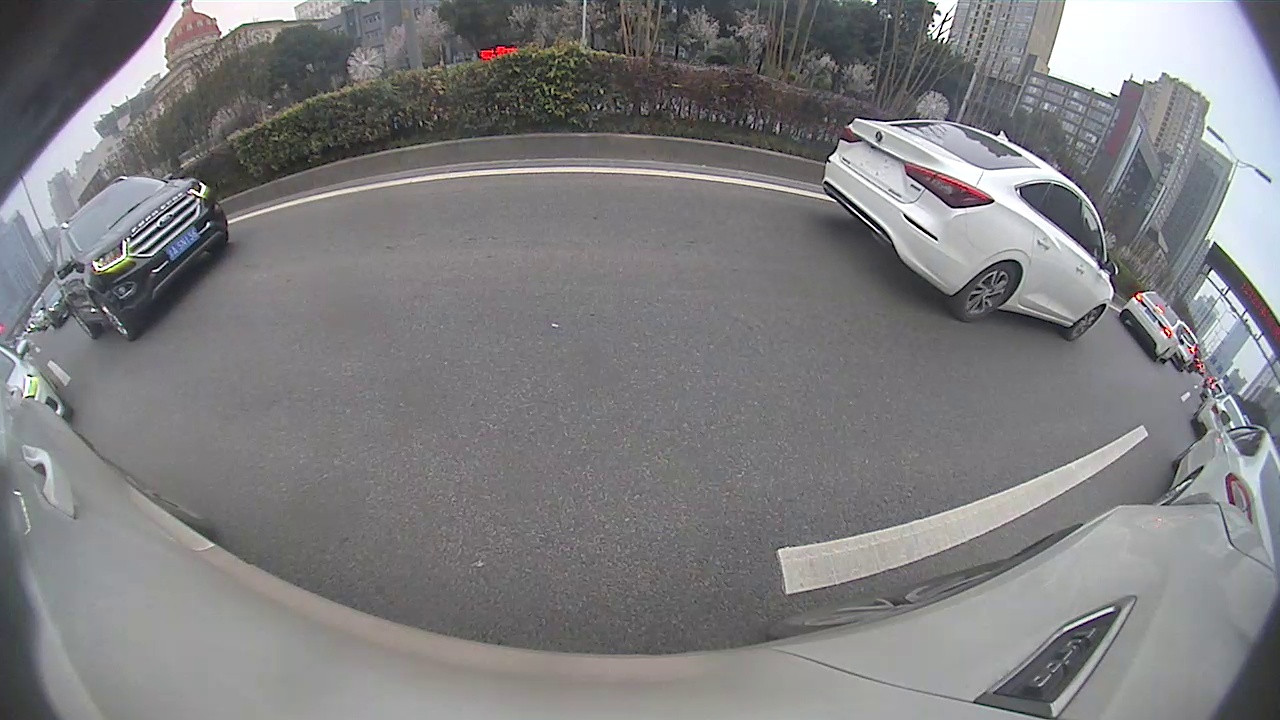car: (818, 115, 1119, 344), (50, 171, 232, 342), (1148, 408, 1279, 553), (1122, 290, 1186, 365)
front: (98, 298, 133, 344), (1067, 305, 1106, 343)
rear: (954, 261, 1022, 323)
